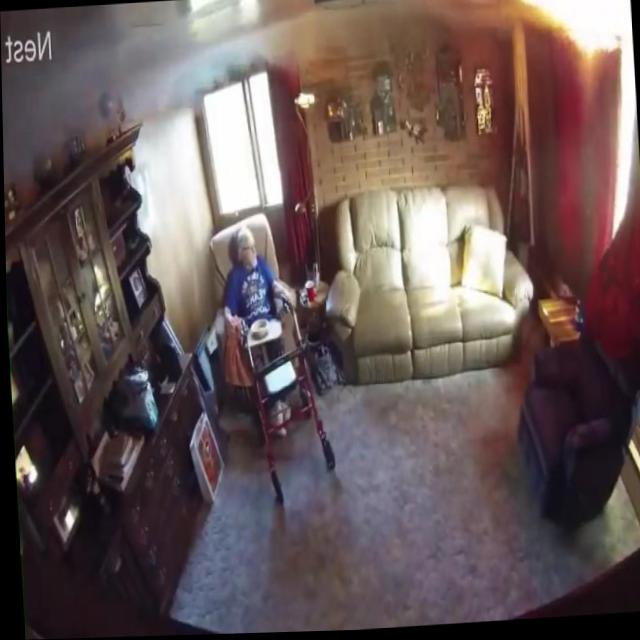fire: (510, 0, 631, 65)
